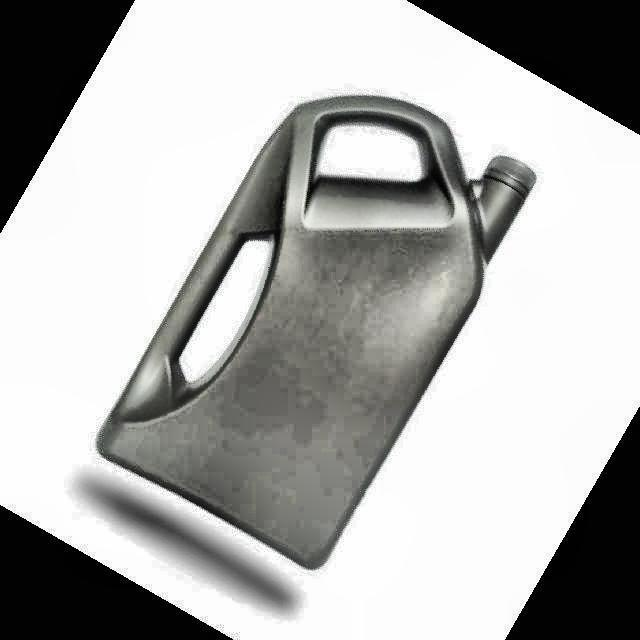plastic: (98, 99, 535, 568)
